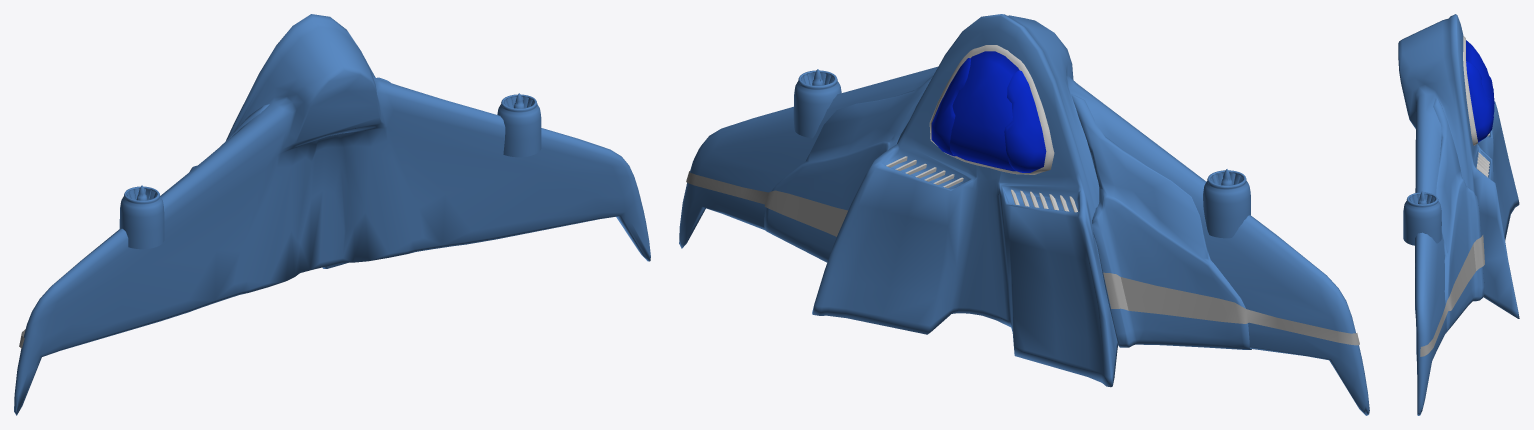
The model's file is Hero Ship.FBX.
The picture shows the model from 3 angles, left to right: view 1: azimuth 30°, elevation 25°; view 2: azimuth 150°, elevation 25°; view 3: azimuth 270°, elevation 25°; orthographic projection. The views are drawn at different scales.
Parts seen in each view (by area): view 1: HeroShip; view 2: HeroShip; view 3: HeroShip.
Part boxes in pixels (box(x1,y1,x2,y2)): HeroShip: box(14, 14, 650, 415); HeroShip: box(679, 14, 1369, 415); HeroShip: box(1398, 14, 1519, 415).
Bounding box in the file's own units: 520 × 241 × 99.42.
